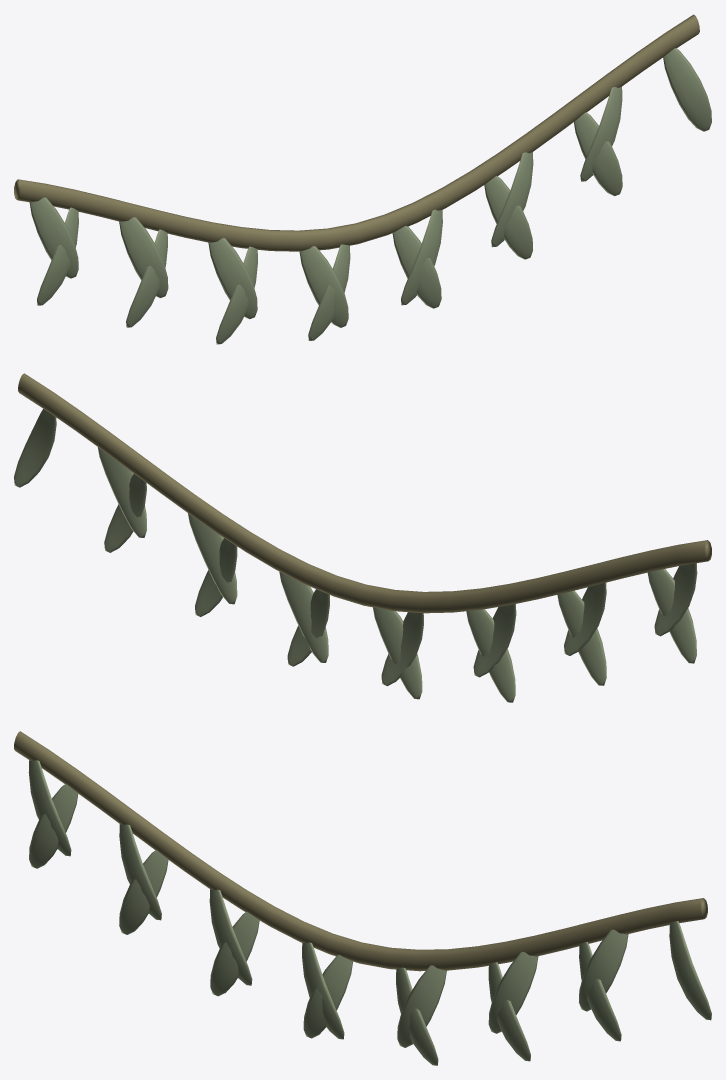
The model's file is evergreengarland.glb.
The picture shows the model from 3 angles, top to bottom: view 1: azimuth 30°, elevation 25°; view 2: azimuth 150°, elevation 25°; view 3: azimuth 330°, elevation 25°; orthographic projection.
Parts seen in each view (by area): view 1: evergreen-bound-vine, evergreen-leaf-14, evergreen-leaf-2, evergreen-leaf-0, evergreen-leaf-4, evergreen-leaf-12, evergreen-leaf-6, evergreen-leaf-10, evergreen-leaf-8, evergreen-leaf-13, evergreen-leaf-11, evergreen-leaf-9 (+4 smaller); view 2: evergreen-bound-vine, evergreen-leaf-3, evergreen-leaf-1, evergreen-leaf-14, evergreen-leaf-5, evergreen-leaf-7, evergreen-leaf-9, evergreen-leaf-11, evergreen-leaf-13, evergreen-leaf-6, evergreen-leaf-4, evergreen-leaf-0 (+4 smaller); view 3: evergreen-bound-vine, evergreen-leaf-13, evergreen-leaf-11, evergreen-leaf-9, evergreen-leaf-5, evergreen-leaf-3, evergreen-leaf-1, evergreen-leaf-7, evergreen-leaf-14, evergreen-leaf-2, evergreen-leaf-6, evergreen-leaf-4 (+4 smaller).
Boxes of the visible parts, box(x1,y1,x2,y2) form: evergreen-bound-vine: box(14, 14, 699, 251); evergreen-leaf-14: box(663, 48, 711, 131); evergreen-leaf-2: box(119, 217, 168, 298); evergreen-leaf-0: box(29, 197, 78, 278); evergreen-leaf-4: box(208, 238, 257, 319); evergreen-leaf-12: box(574, 112, 622, 196); evergreen-leaf-6: box(299, 246, 348, 327); evergreen-leaf-10: box(484, 176, 532, 259); evergreen-leaf-8: box(392, 225, 441, 308); evergreen-leaf-13: box(580, 86, 622, 181); evergreen-leaf-11: box(491, 152, 533, 247); evergreen-leaf-9: box(401, 209, 442, 305); evergreen-bound-vine: box(18, 373, 711, 613); evergreen-leaf-3: box(557, 590, 606, 685); evergreen-leaf-1: box(647, 569, 696, 663); evergreen-leaf-14: box(14, 409, 56, 487); evergreen-leaf-5: box(466, 609, 515, 702); evergreen-leaf-7: box(373, 607, 422, 699); evergreen-leaf-9: box(279, 571, 328, 662); evergreen-leaf-11: box(188, 513, 237, 604); evergreen-leaf-13: box(97, 447, 146, 537); evergreen-leaf-6: box(381, 612, 423, 686); evergreen-leaf-4: box(473, 604, 516, 677); evergreen-leaf-0: box(654, 563, 697, 636); evergreen-bound-vine: box(14, 731, 707, 971); evergreen-leaf-13: box(579, 929, 628, 1011); evergreen-leaf-11: box(488, 951, 538, 1033); evergreen-leaf-9: box(397, 965, 446, 1047); evergreen-leaf-5: box(210, 911, 259, 996); evergreen-leaf-3: box(119, 850, 168, 934); evergreen-leaf-1: box(29, 784, 78, 868); evergreen-leaf-7: box(303, 955, 352, 1038); evergreen-leaf-14: box(669, 921, 711, 1020); evergreen-leaf-2: box(119, 824, 161, 920); evergreen-leaf-6: box(302, 942, 344, 1039); evergreen-leaf-4: box(209, 889, 252, 985).
Bounding box in the file's own units: 1.33 × 0.4206 × 0.0404.
